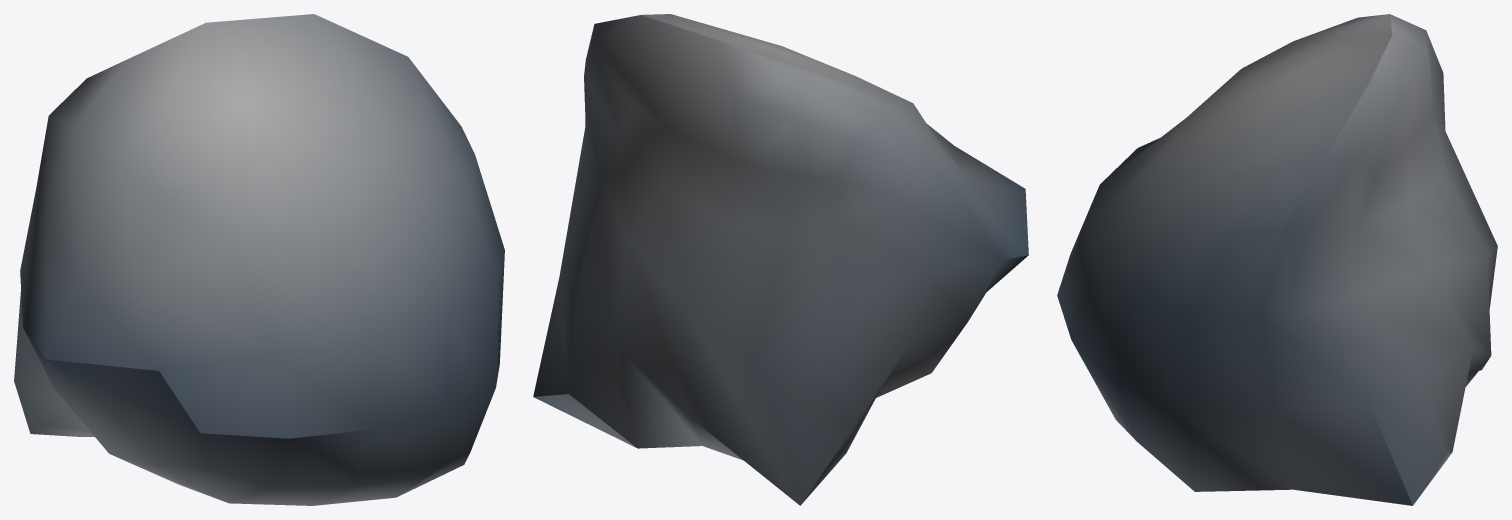
The model's file is MSH_Piedra2.fbx.
3 renders of one model, left to right at view 1: azimuth 30°, elevation 25°; view 2: azimuth 150°, elevation 25°; view 3: azimuth 270°, elevation 25°, orthographic. The views are drawn at different scales.
Parts seen in each view (by area): view 1: piedrita2; view 2: piedrita2; view 3: piedrita2.
Boxes of the visible parts, x1,y1,x2,y2 form: piedrita2: [14, 14, 504, 505]; piedrita2: [533, 14, 1028, 505]; piedrita2: [1057, 14, 1497, 505].
Size of the model in its own units: 178 by 159 by 160.
